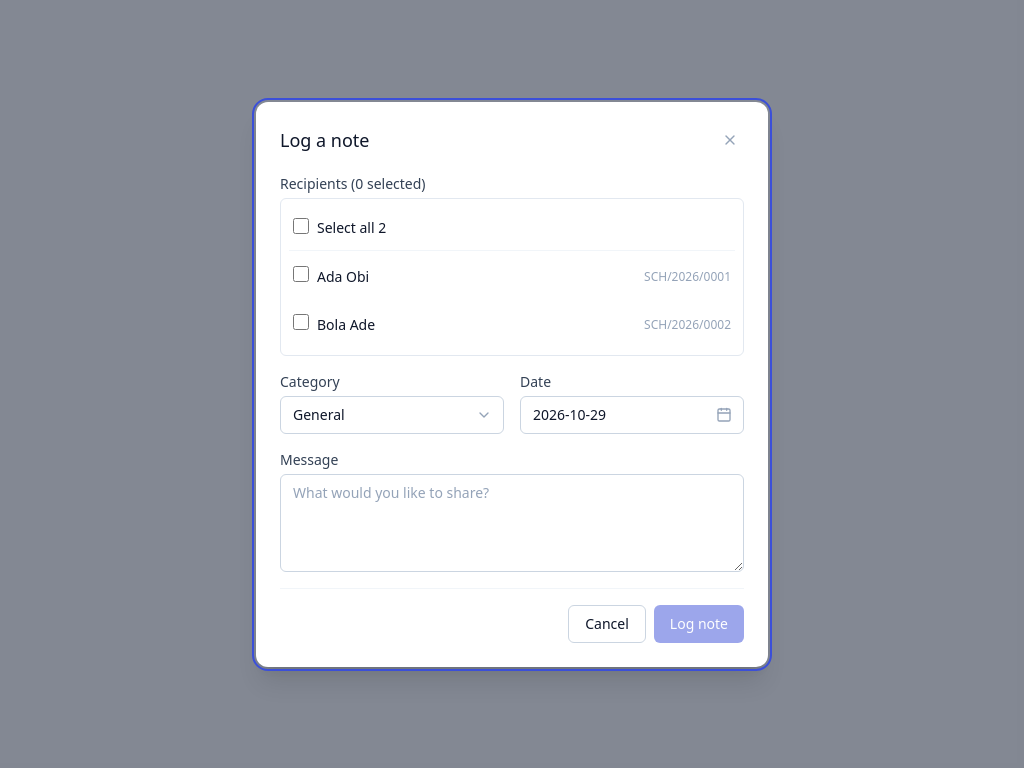
Scenario: ComposeNoteSheet › selects every roster student via 'Select all' and reports a per-student outcome after submitting
Click the text "Select all 2". click: (348, 228)
box: x1=289 y1=206 x2=735 y2=250
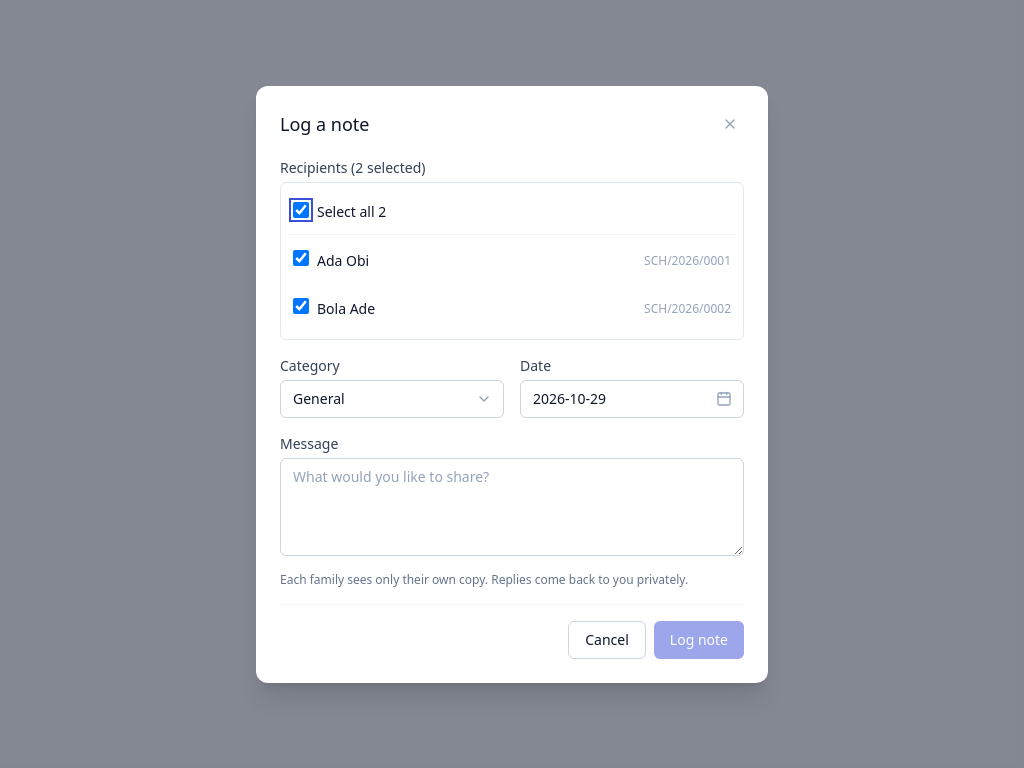
Type "Great class today!" into the text box with placeholder "What would you like to share?". click: (512, 506)
box: x1=280 y1=458 x2=744 y2=556
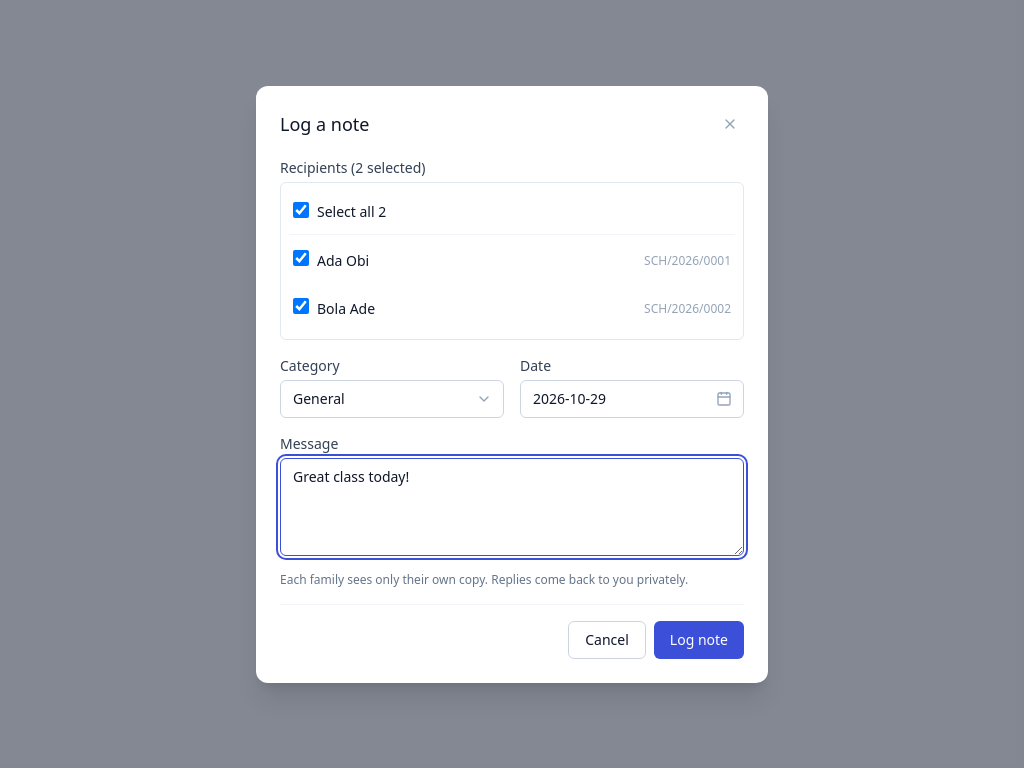
Result: the text "Each family sees only their own copy. Replies come back to you privately." is shown at x1=280 y1=572 x2=744 y2=588
Click the button "Log note". click: (699, 640)
box: x1=654 y1=620 x2=744 y2=658
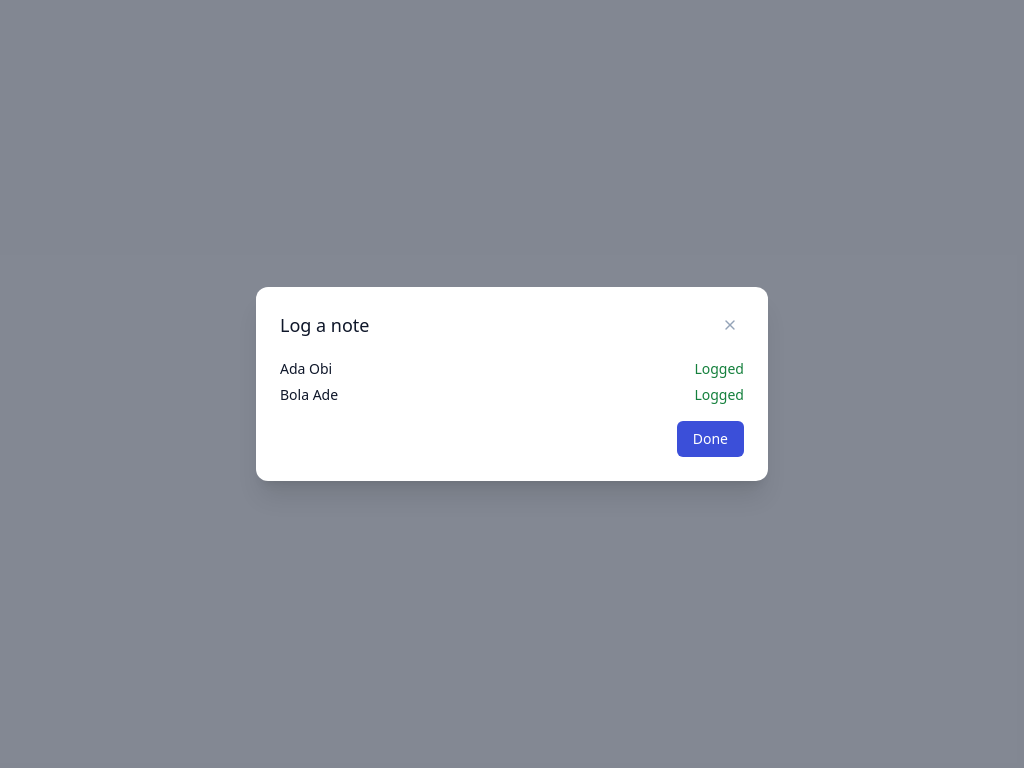
Result: the text "Logged" is shown 2 times at x1=694 y1=359 x2=744 y2=379; x1=694 y1=385 x2=744 y2=405
